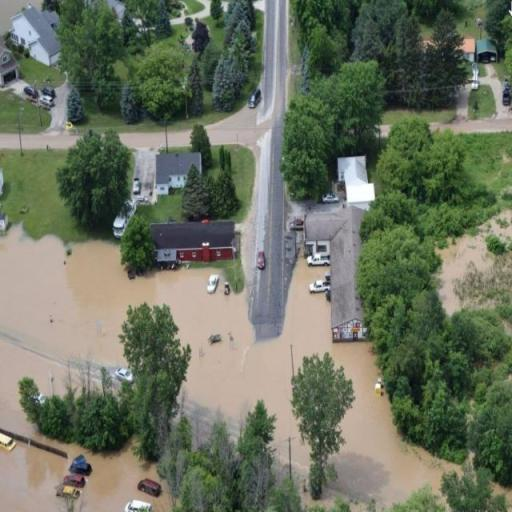flood: (0, 226, 442, 512)
house: (306, 209, 366, 342), (150, 218, 239, 266), (10, 7, 64, 68), (155, 149, 205, 198), (336, 153, 377, 206), (460, 31, 502, 62), (1, 34, 21, 91)
